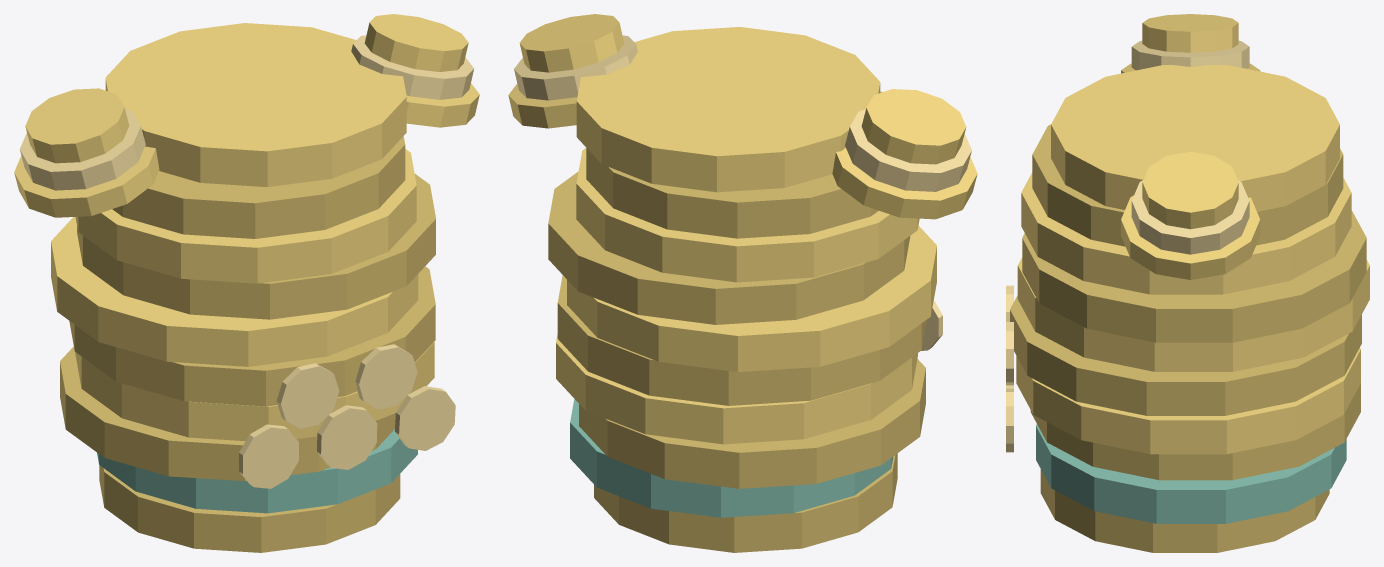
The model's file is coin_golem.glb.
3 renders of one model, left to right at view 1: azimuth 30°, elevation 25°; view 2: azimuth 150°, elevation 25°; view 3: azimuth 270°, elevation 25°, orthographic. The views are drawn at different scales.
Visible parts, largest first — view 1: Torso, PauldronL, PauldronR; view 2: Torso, PauldronL, PauldronR; view 3: Torso, PauldronR, PauldronL.
Part boxes in pixels (x1,y1,x2,y2): Torso: [51, 23, 455, 552]; PauldronL: [14, 88, 159, 217]; PauldronR: [351, 14, 479, 127]; Torso: [548, 27, 942, 552]; PauldronL: [832, 89, 977, 219]; PauldronR: [508, 14, 637, 128]; Torso: [1006, 65, 1369, 552]; PauldronR: [1121, 151, 1260, 279]; PauldronL: [1121, 14, 1260, 73].
Bounding box in the file's own units: 0.9117 × 0.8282 × 0.6801.
